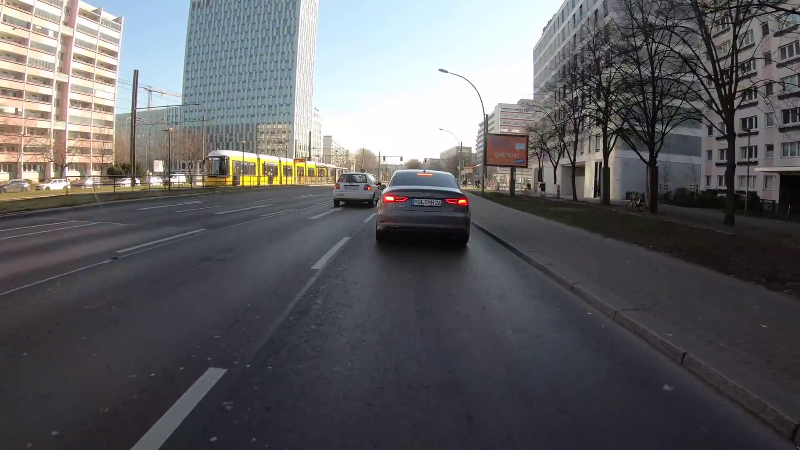Plate: (408, 197, 444, 209), (343, 183, 360, 191)
